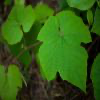grape leaf: (36, 11, 91, 94), (0, 2, 35, 45), (0, 62, 22, 100)
